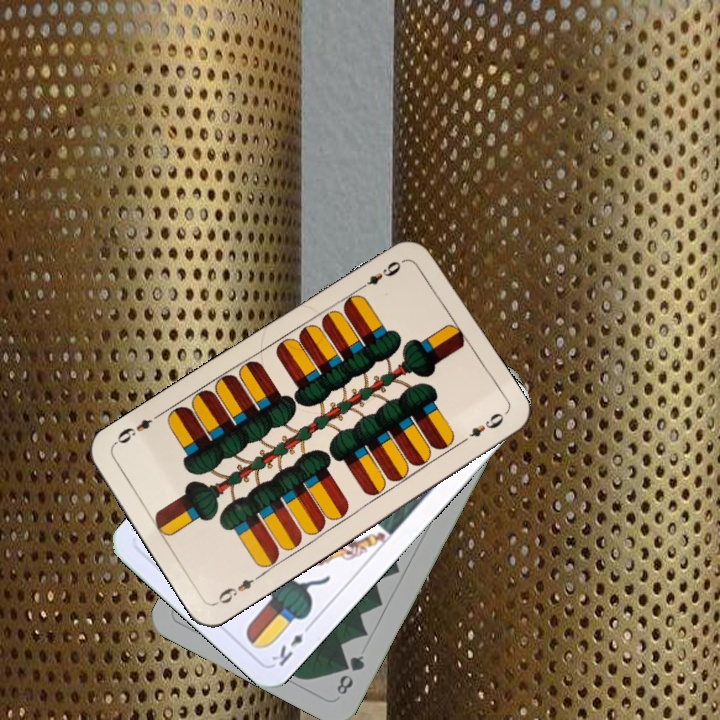E9: (355, 255, 408, 293), (211, 570, 265, 607)
EK: (267, 619, 315, 669)
G8: (332, 651, 367, 698)
